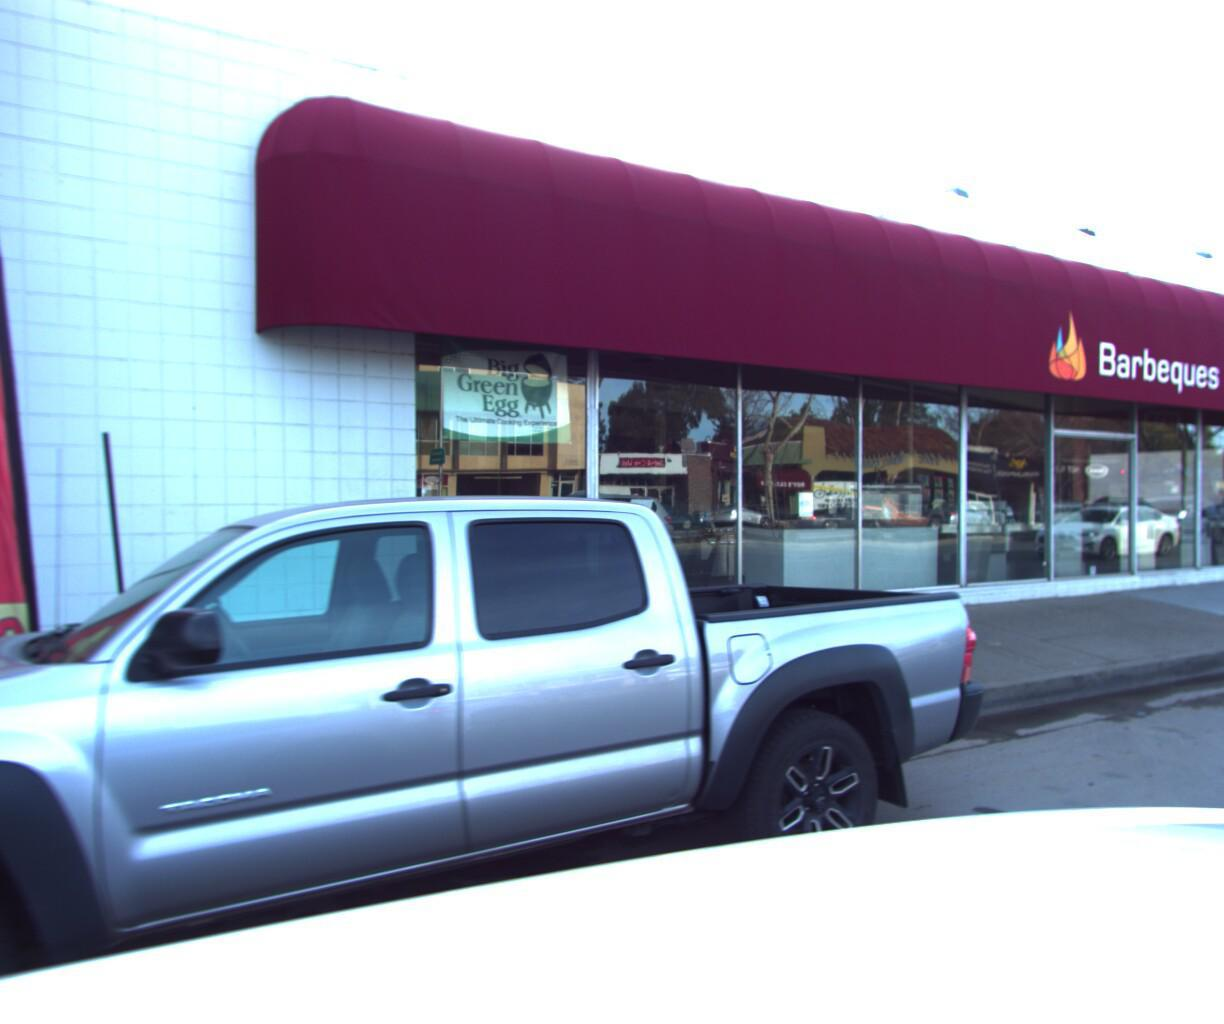car: (0, 469, 1018, 1024)
